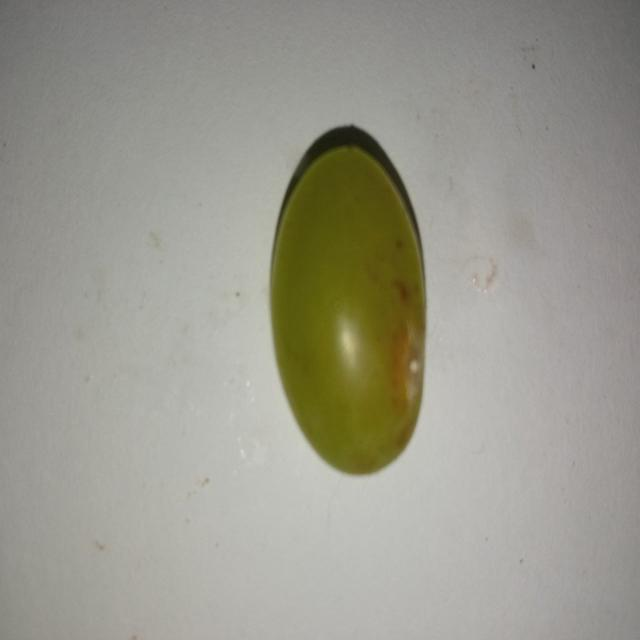fresh_grape: (269, 127, 425, 479)
